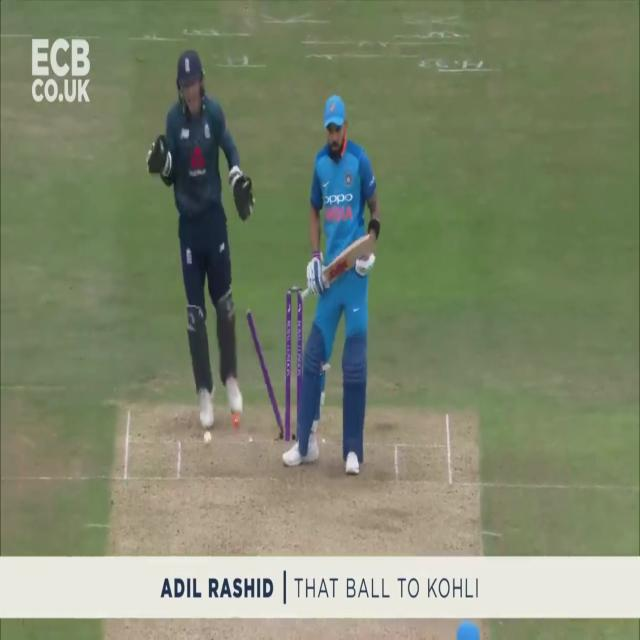cricketBall: (204, 432, 212, 444)
